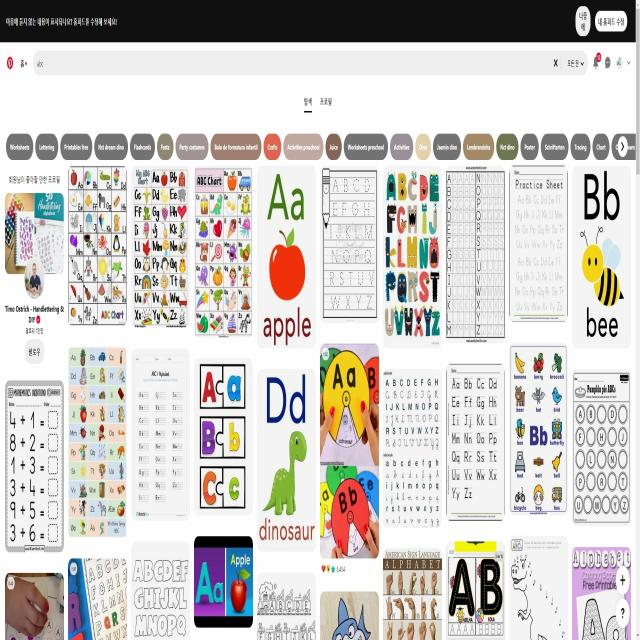menu-bar: (592, 50, 632, 76)
search: (32, 47, 590, 80)
tab-bar: (3, 131, 635, 162), (572, 5, 628, 36), (298, 88, 338, 118)
